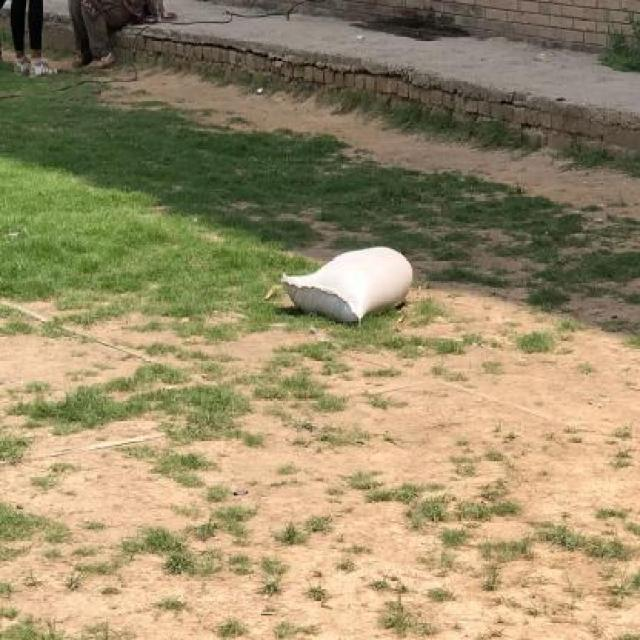garbage: (265, 243, 436, 344)
